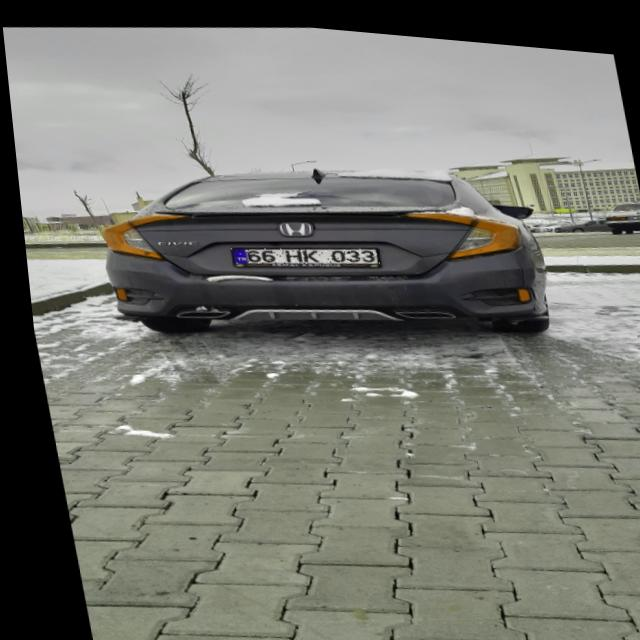license_plate: (224, 231, 375, 269)
